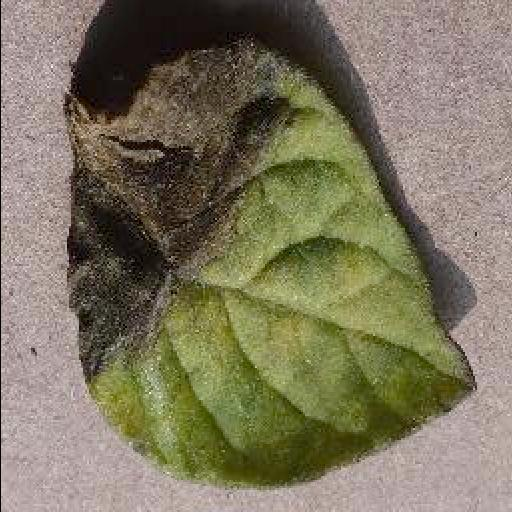disease_tomato: (61, 40, 479, 494)
